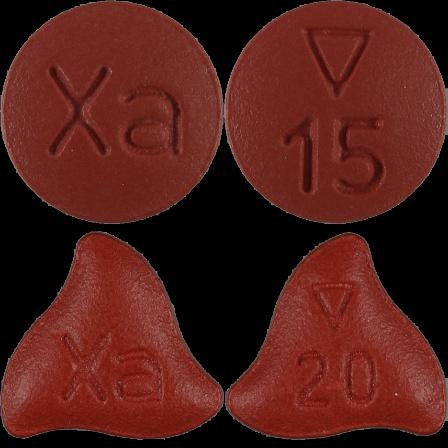50458-578: (0, 0, 224, 224)
